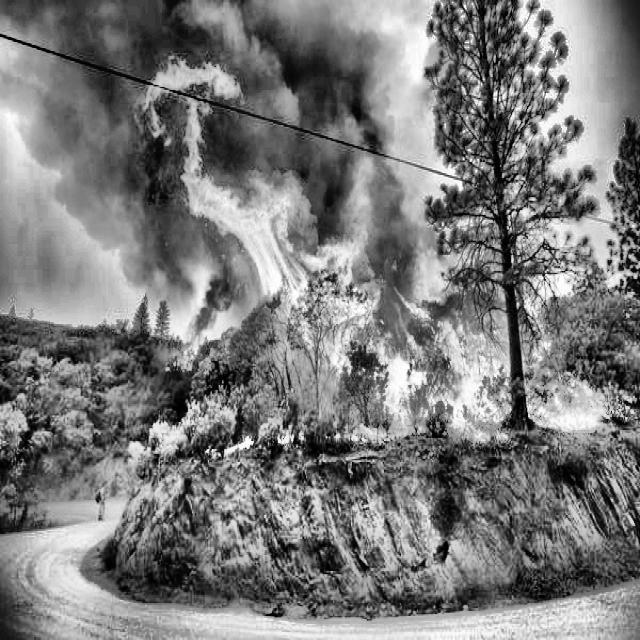fire: (119, 24, 603, 476)
